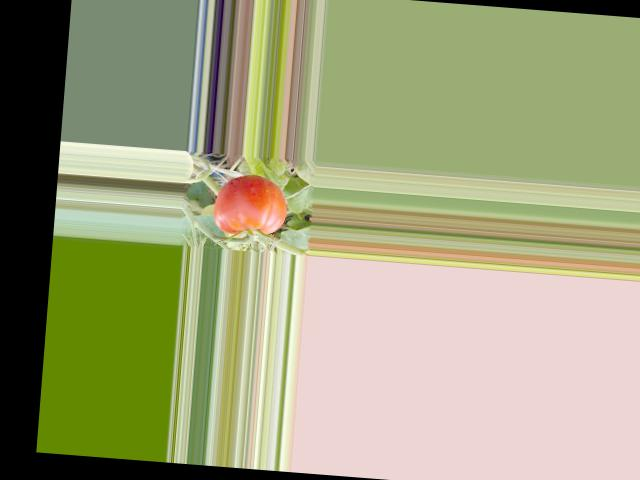tomato: (211, 172, 289, 237)
